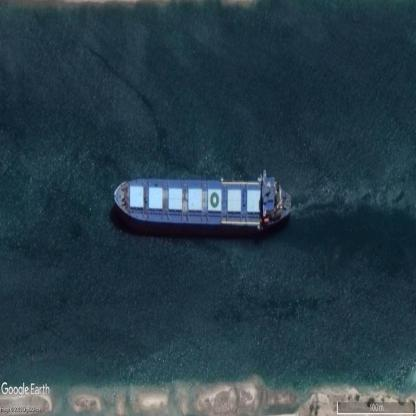ship: (113, 174, 290, 228)
